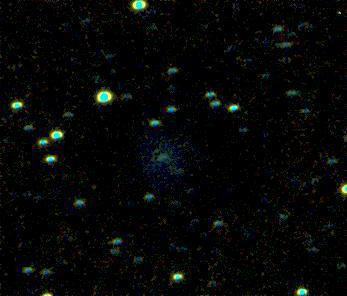star: (142, 136, 172, 166)
